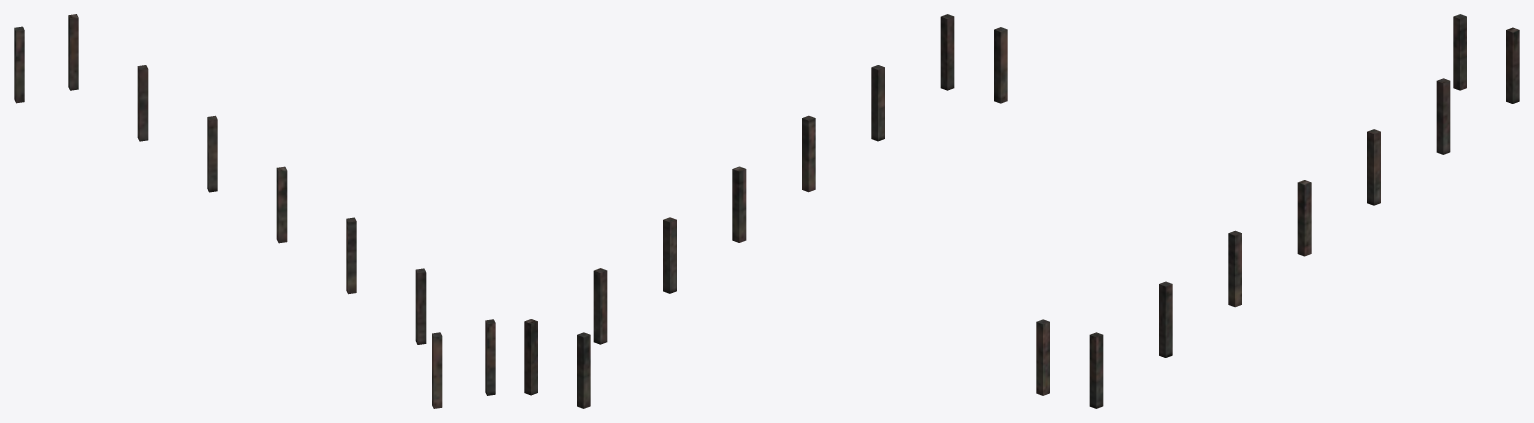
File: BalconyGrills.FBX
The picture shows the model from 3 angles, left to right: view 1: azimuth 30°, elevation 25°; view 2: azimuth 150°, elevation 25°; view 3: azimuth 330°, elevation 25°; orthographic projection.
Parts seen in each view (by area): view 1: BalconyGrills; view 2: BalconyGrills; view 3: BalconyGrills.
Part boxes in pixels (x1=…): BalconyGrills: x1=14, y1=14, x2=495, y2=408; BalconyGrills: x1=524, y1=14, x2=1007, y2=408; BalconyGrills: x1=1036, y1=14, x2=1519, y2=408.
Bounding box in the file's own units: 104 × 112 × 1200.
